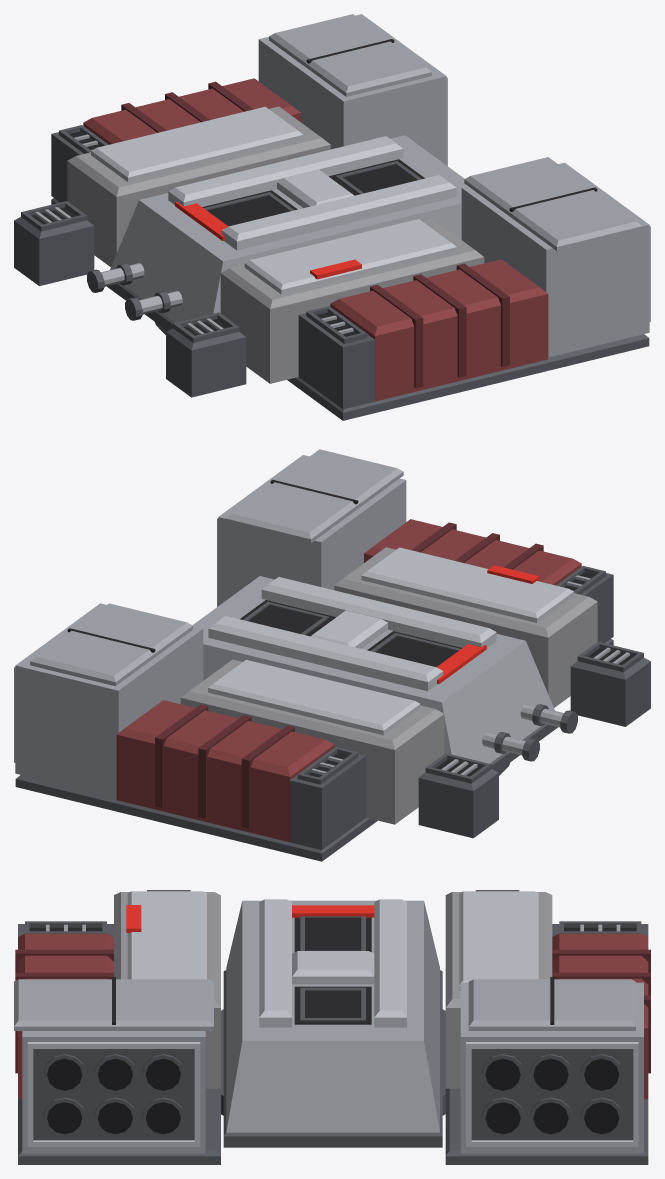
Rendered from vge_egun_javelin_launcher.obj.
3 renders of one model, top to bottom at view 1: azimuth 30°, elevation 25°; view 2: azimuth 150°, elevation 25°; view 3: azimuth 270°, elevation 25°, orthographic. The views are drawn at different scales.
Parts seen in each view (by area): view 1: vge_egun_javelin_launcher_60, vge_egun_javelin_launcher_3, vge_egun_javelin_launcher_119, vge_egun_javelin_launcher_49, vge_egun_javelin_launcher_85, vge_egun_javelin_launcher_50, vge_egun_javelin_launcher_118, vge_egun_javelin_launcher_144, vge_egun_javelin_launcher_56, vge_egun_javelin_launcher_59, vge_egun_javelin_launcher_40, vge_egun_javelin_launcher_109 (+25 smaller); view 2: vge_egun_javelin_launcher_119, vge_egun_javelin_launcher_3, vge_egun_javelin_launcher_60, vge_egun_javelin_launcher_108, vge_egun_javelin_launcher_85, vge_egun_javelin_launcher_109, vge_egun_javelin_launcher_118, vge_egun_javelin_launcher_144, vge_egun_javelin_launcher_59, vge_egun_javelin_launcher_115, vge_egun_javelin_launcher_99, vge_egun_javelin_launcher_56 (+25 smaller); view 3: vge_egun_javelin_launcher_3, vge_egun_javelin_launcher_85, vge_egun_javelin_launcher_144, vge_egun_javelin_launcher_120, vge_egun_javelin_launcher_61, vge_egun_javelin_launcher_118, vge_egun_javelin_launcher_59, vge_egun_javelin_launcher_119, vge_egun_javelin_launcher_60, vge_egun_javelin_launcher_5, vge_egun_javelin_launcher_7, vge_egun_javelin_launcher_109 (+58 smaller).
Part boxes in pixels (x1,y1,x2,y2): vge_egun_javelin_launcher_60: (461,162,649,357); vge_egun_javelin_launcher_3: (110,135,467,322); vge_egun_javelin_launcher_119: (258,14,446,164); vge_egun_javelin_launcher_49: (330,294,548,401); vge_egun_javelin_launcher_85: (464,157,641,246); vge_egun_javelin_launcher_50: (331,259,547,335); vge_egun_javelin_launcher_118: (91,106,303,177); vge_egun_javelin_launcher_144: (269,14,431,92); vge_egun_javelin_launcher_56: (220,257,484,383); vge_egun_javelin_launcher_59: (245,219,456,289); vge_egun_javelin_launcher_40: (298,313,374,409); vge_egun_javelin_launcher_109: (83,78,300,143); vge_egun_javelin_launcher_119: (15,603,203,798); vge_egun_javelin_launcher_3: (192,576,554,763); vge_egun_javelin_launcher_60: (218,455,406,605); vge_egun_javelin_launcher_108: (116,735,334,842); vge_egun_javelin_launcher_85: (225,449,403,539); vge_egun_javelin_launcher_109: (117,700,333,776); vge_egun_javelin_launcher_118: (208,659,419,730); vge_egun_javelin_launcher_144: (30,603,192,682); vge_egun_javelin_launcher_59: (362,547,573,618); vge_egun_javelin_launcher_115: (180,698,444,824); vge_egun_javelin_launcher_99: (290,754,366,849); vge_egun_javelin_launcher_56: (334,585,597,707); vge_egun_javelin_launcher_3: (226,900,439,1132); vge_egun_javelin_launcher_85: (14,979,213,1026); vge_egun_javelin_launcher_144: (468,979,635,1026); vge_egun_javelin_launcher_120: (471,1049,633,1140); vge_egun_javelin_launcher_61: (33,1049,194,1140); vge_egun_javelin_launcher_118: (459,891,538,985); vge_egun_javelin_launcher_59: (127,891,206,979); vge_egun_javelin_launcher_119: (460,982,643,1153); vge_egun_javelin_launcher_60: (22,1031,205,1153); vge_egun_javelin_launcher_5: (259,899,291,1017); vge_egun_javelin_launcher_7: (374,899,406,1017); vge_egun_javelin_launcher_109: (552,933,648,1028).
Bounding box in the file's own units: 3.71 × 1.27 × 4.65.
